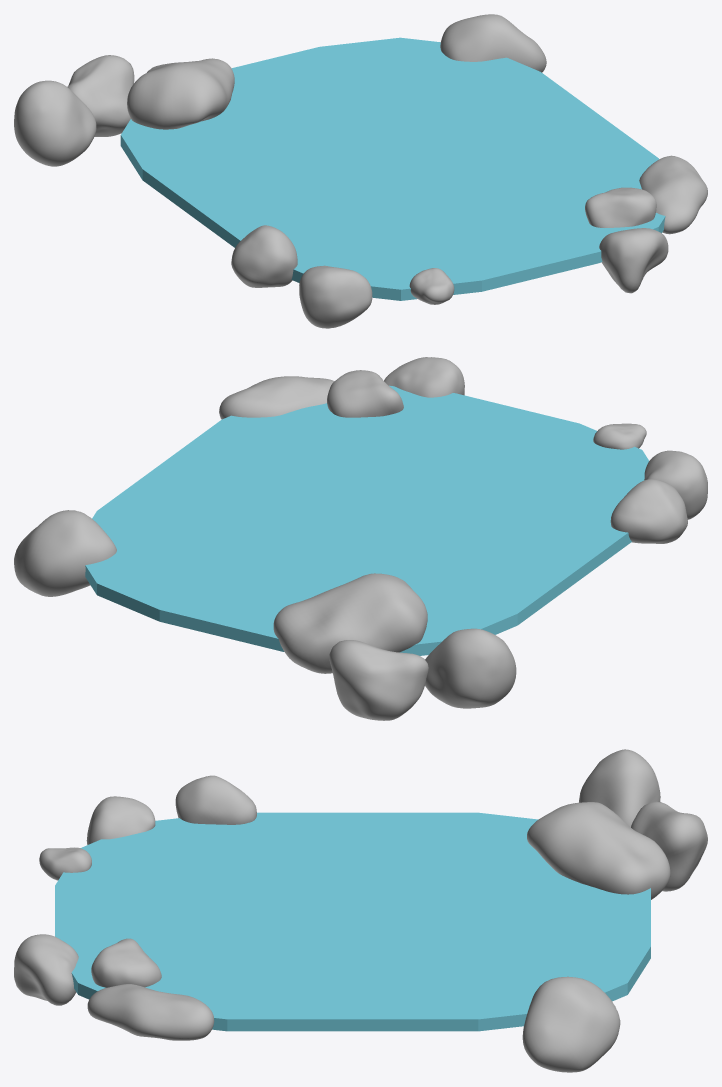
Rendered from Pond.fbx.
3 renders of one model, top to bottom at view 1: azimuth 30°, elevation 25°; view 2: azimuth 150°, elevation 25°; view 3: azimuth 270°, elevation 25°, orthographic. The views are drawn at different scales.
Visible parts, largest first — view 1: Cube.001; view 2: Cube.001; view 3: Cube.001.
Boxes of the visible parts, box(x1,y1,x2,y2) form: Cube.001: box(14, 14, 707, 328); Cube.001: box(14, 357, 707, 720); Cube.001: box(14, 749, 707, 1072).
Size of the model in its own units: 266 by 46.9 by 305.
